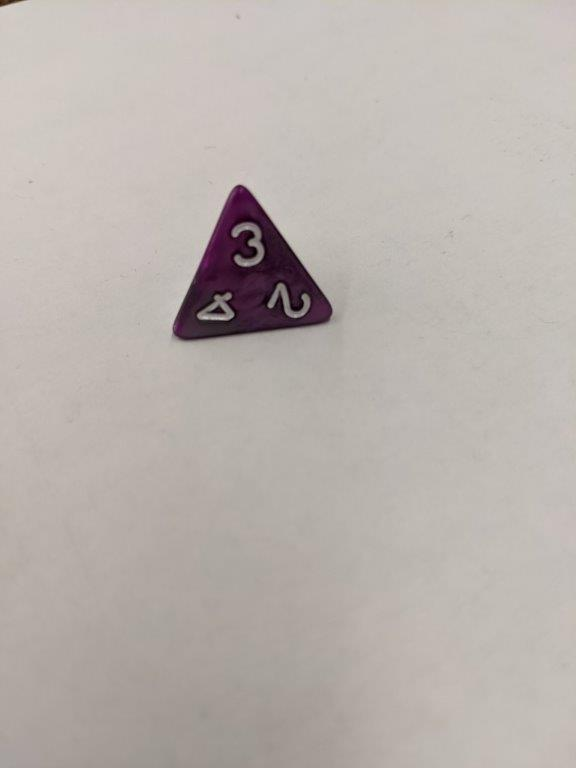d4-3: (163, 183, 337, 348)
